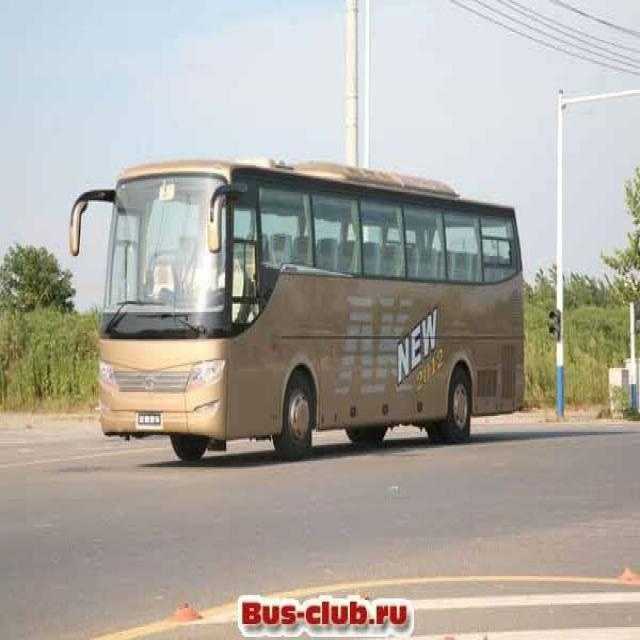bus: (14, 115, 574, 498)
